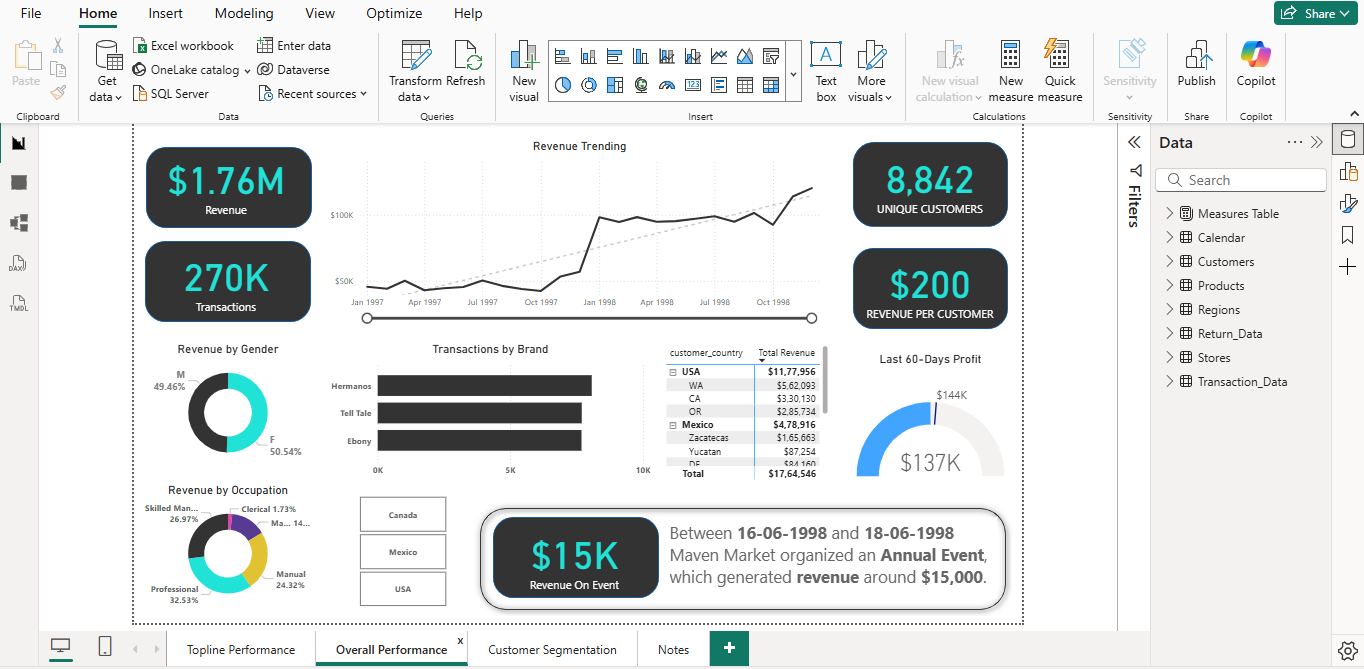

This screenshot's page, from the dashboard's own definition file:
{"tool":"powerbi","page":{"name":"Overall Performance ","canvas":[1280,720],"ordinal":1},"visuals":[{"type":"gauge","title":"Last 60-Days Profit","fields":{"Y":["Measures Table.60-Day Profit"],"TargetValue":["Measures Table.Profit Target(Last 60-Days)"]},"box":[1035.4,329.8,223.2,201.6],"z":0},{"type":"shape","box":[490,546,774.7,164.2],"z":0,"group":"g6"},{"type":"donutChart","title":"Revenue by Gender","fields":{"Y":["Measures Table.Total Revenue"],"Series":["Customers.gender"]},"box":[15.8,315.4,239,184.3],"z":1000},{"type":"textbox","box":[766.1,567.4,476.6,118.1],"z":1000,"group":"g6"},{"type":"donutChart","title":"Revenue by Occupation","fields":{"Y":["Measures Table.Total Revenue"],"Series":["Customers.occupation"]},"box":[15.8,518.4,239,184.3],"z":2000},{"type":"group","id":"g1","title":"Group 1","box":[1034,6.5,225.3,158.4],"z":3000},{"type":"group","id":"g2","title":"Group 1","box":[9.7,7.3,246.6,158.4],"z":4000},{"type":"shape","box":[1036.1,28.1,223.2,122.4],"z":4000,"group":"g1"},{"type":"shape","box":[17.3,34.1,239,116.6],"z":4000,"group":"g2"},{"type":"shape","box":[15.6,170.6,239,116.6],"z":4000,"group":"g3"},{"type":"shape","box":[516.9,567.4,239,116.6],"z":4000,"group":"g4"},{"type":"card","fields":{"Values":["Measures Table.Total Customers"]},"box":[1034,6.5,224.6,158.4],"z":5000,"group":"g1"},{"type":"card","fields":{"Values":["Measures Table.Total Revenue"]},"box":[9.7,7.3,244.8,158.4],"z":5000,"group":"g2"},{"type":"group","id":"g3","title":"Group 1","box":[10.1,149.8,244.8,152.6],"z":5000},{"type":"card","fields":{"Values":["Measures Table.Total Transactions"]},"box":[10.1,149.8,244.8,152.6],"z":5000,"group":"g3"},{"type":"shape","box":[1035.3,180.1,223.2,116.6],"z":5000,"group":"g5"},{"type":"group","id":"g4","title":"Group 2","box":[516.9,567.4,239,118.1],"z":5000,"group":"g6"},{"type":"card","fields":{"Values":["Measures Table.Specific Revenue"]},"box":[517.9,567.7,231.8,118.1],"z":5000,"group":"g4"},{"type":"group","id":"g5","title":"Group 3","box":[1033.9,158.4,224.6,157],"z":6000},{"type":"lineChart","title":"Revenue Trending","fields":{"Y":["Measures Table.Total Revenue"],"Category":["Calendar.Start of Month"]},"box":[277.9,23,727.2,269.3],"z":7000},{"type":"card","fields":{"Values":["Measures Table.Revenue Per Customer"]},"box":[1033.9,158.4,224.6,157],"z":7500,"group":"g5"},{"type":"pivotTable","fields":{"Rows":["Customers.customer_country","Customers.customer_state_province"],"Values":["Measures Table.Total Revenue"]},"box":[761.8,315.4,243.4,203],"z":8000},{"type":"barChart","title":"Transactions by Brand","fields":{"Y":["Measures Table.Total Transactions"],"Category":["Products.product_brand"]},"box":[277.9,315.4,470.9,203],"z":9000},{"type":"slicer","fields":{"Values":["Customers.customer_country"]},"box":[299.5,531.4,174.2,171.4],"z":10000},{"type":"group","id":"g6","title":"Group 4","box":[490,546,774.7,164.2],"z":11000}]}

Visuals, with their boxes on the page's 1280x720 design canvas (x1, y1, x2, y2). These are canvas units, not pixel positions in the 1364x669 screenshot, which may show the page scaled, cropped or inside an application window:
"Last 60-Days Profit" gauge: (1035, 330, 1259, 531)
shape: (490, 546, 1265, 710)
"Revenue by Gender" donutChart: (16, 315, 255, 500)
textbox: (766, 567, 1243, 686)
"Revenue by Occupation" donutChart: (16, 518, 255, 703)
"Group 1" group: (1034, 6, 1259, 165)
"Group 1" group: (10, 7, 256, 166)
shape: (1036, 28, 1259, 150)
shape: (17, 34, 256, 151)
shape: (16, 171, 255, 287)
shape: (517, 567, 756, 684)
card - Measures Table.Total Customers: (1034, 6, 1259, 165)
card - Measures Table.Total Revenue: (10, 7, 254, 166)
"Group 1" group: (10, 150, 255, 302)
card - Measures Table.Total Transactions: (10, 150, 255, 302)
shape: (1035, 180, 1258, 297)
"Group 2" group: (517, 567, 756, 686)
card - Measures Table.Specific Revenue: (518, 568, 750, 686)
"Group 3" group: (1034, 158, 1258, 315)
"Revenue Trending" lineChart: (278, 23, 1005, 292)
card - Measures Table.Revenue Per Customer: (1034, 158, 1258, 315)
pivotTable - Customers.customer_country x Customers.customer_state_province: (762, 315, 1005, 518)
"Transactions by Brand" barChart: (278, 315, 749, 518)
slicer - Customers.customer_country: (300, 531, 474, 703)
"Group 4" group: (490, 546, 1265, 710)
